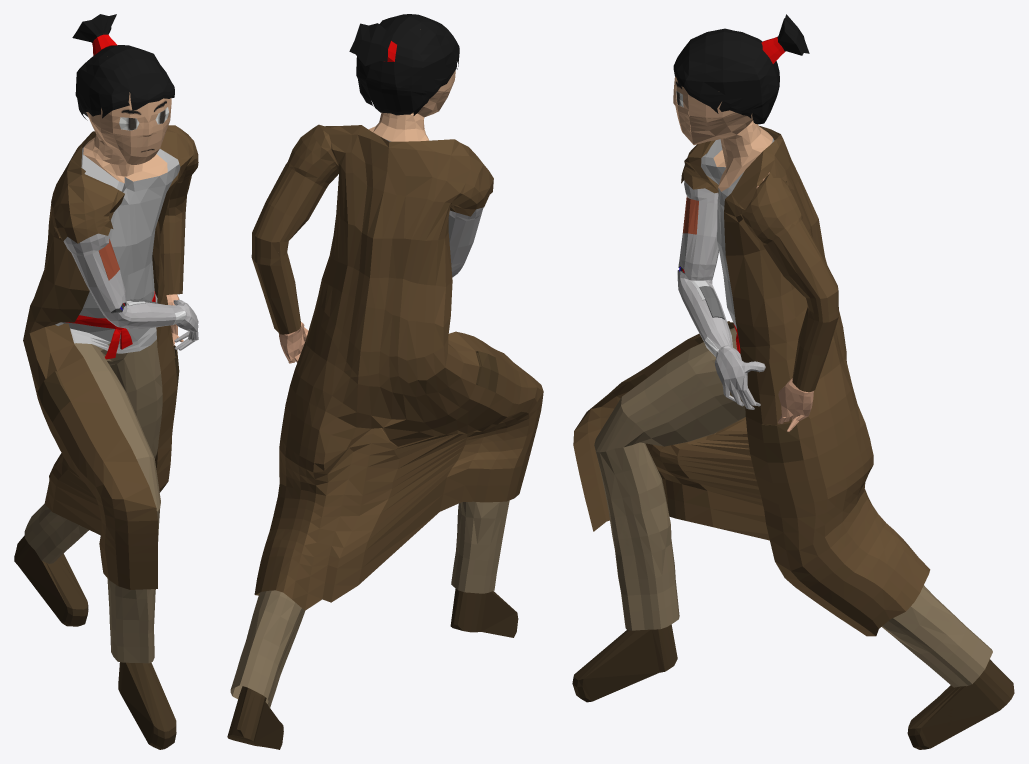
Rendered from One_RF_000022.obj.
3 renders of one model, left to right at view 1: azimuth 30°, elevation 25°; view 2: azimuth 150°, elevation 25°; view 3: azimuth 270°, elevation 25°, orthographic. The views are drawn at different scales.
Parts seen in each view (by area): view 1: Hair_Cube.004; view 2: Hair_Cube.004; view 3: Hair_Cube.004.
Boxes of the visible parts, <box> form: Hair_Cube.004: <box>14,14,198,749</box>; Hair_Cube.004: <box>227,14,543,749</box>; Hair_Cube.004: <box>572,14,1014,749</box>.
Bounding box in the file's own units: 1.09 × 3.75 × 2.12.
